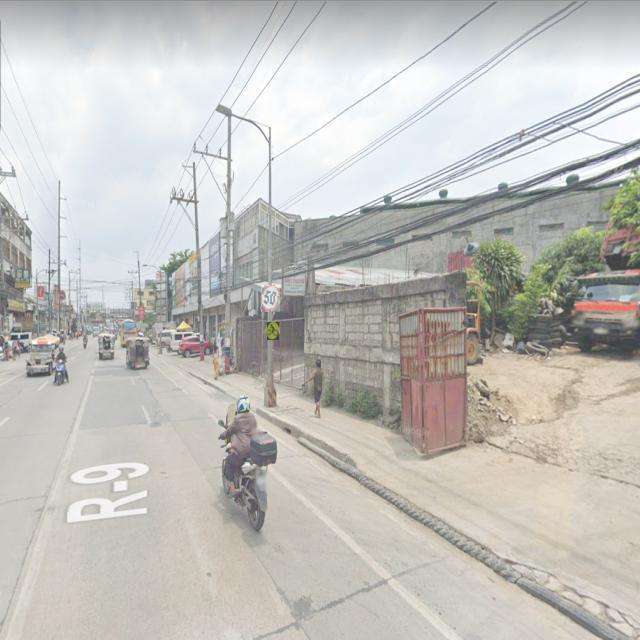50 kph: (261, 285, 280, 312)
bike lane: (267, 322, 279, 340)
